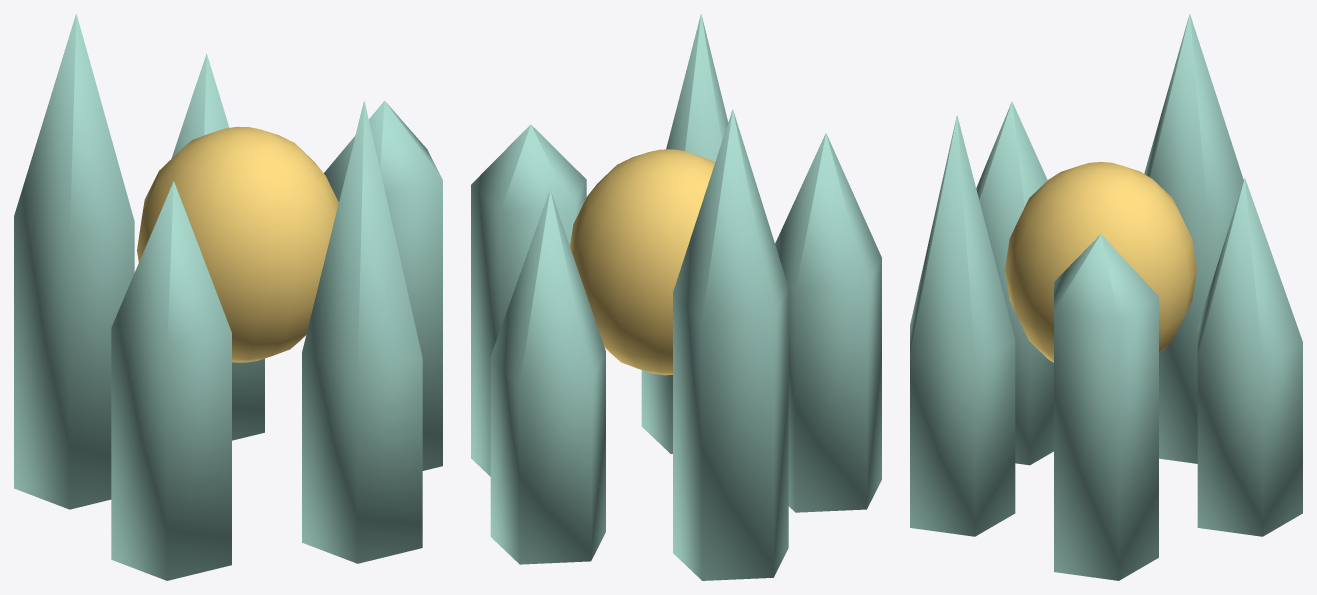
File: relic.glb
The picture shows the model from 3 angles, left to right: view 1: azimuth 30°, elevation 25°; view 2: azimuth 150°, elevation 25°; view 3: azimuth 270°, elevation 25°; orthographic projection. The views are drawn at different scales.
Visible parts, largest first — view 1: Crystal.003, Crystal.001, Crystal.002, SporeCore, Crystal, Crystal.004; view 2: Crystal.003, Crystal.004, Crystal.002, SporeCore, Crystal, Crystal.001; view 3: Crystal, Crystal.001, Crystal.004, SporeCore, Crystal.003, Crystal.002.
Boxes of the visible parts, x1=… form: Crystal.003: x1=14, y1=14, x2=134, y2=509; Crystal.001: x1=302, y1=101, x2=422, y2=563; Crystal.002: x1=111, y1=181, x2=231, y2=580; SporeCore: x1=137, y1=126, x2=338, y2=362; Crystal: x1=324, y1=101, x2=442, y2=470; Crystal.004: x1=171, y1=54, x2=264, y2=440; Crystal.003: x1=673, y1=109, x2=788, y2=580; Crystal.004: x1=490, y1=190, x2=605, y2=564; Crystal.002: x1=775, y1=133, x2=881, y2=512; SporeCore: x1=570, y1=149, x2=715, y2=375; Crystal: x1=471, y1=124, x2=586, y2=476; Crystal.001: x1=641, y1=14, x2=728, y2=453; Crystal: x1=1054, y1=234, x2=1158, y2=580; Crystal.001: x1=910, y1=115, x2=1015, y2=536; Crystal.004: x1=1197, y1=178, x2=1302, y2=536; SporeCore: x1=1005, y1=162, x2=1196, y2=362; Crystal.003: x1=1144, y1=14, x2=1243, y2=463; Crystal.002: x1=976, y1=102, x2=1053, y2=465.
Bounding box in the file's own units: 1.32 × 1.62 × 1.35.
